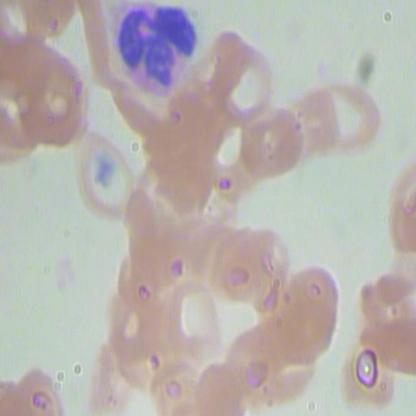RBC: (210, 215, 292, 306), (274, 261, 343, 362), (314, 70, 386, 162), (19, 56, 92, 146), (237, 95, 308, 186), (209, 34, 276, 126), (334, 319, 398, 411), (163, 271, 226, 363), (103, 274, 166, 366), (72, 129, 133, 220)
WBC: (112, 1, 198, 101)
